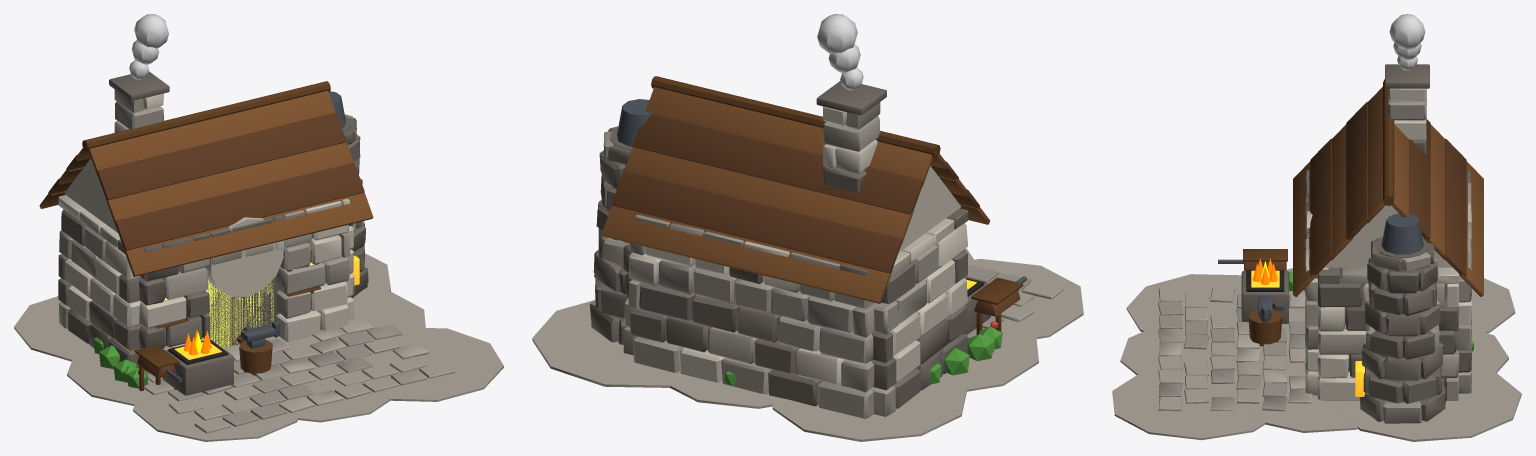
Rendered from kuznia_poz12.glb.
3 views of the same model, side by side, from view 1: azimuth 30°, elevation 25°; view 2: azimuth 150°, elevation 25°; view 3: azimuth 270°, elevation 25° (orthographic). The views are drawn at different scales.
Parts seen in each view (by area): view 1: kuznia_poz12; view 2: kuznia_poz12; view 3: kuznia_poz12.
Boxes of the visible parts, x1,y1,x2,y2 form: kuznia_poz12: [14, 14, 503, 441]; kuznia_poz12: [532, 14, 1083, 441]; kuznia_poz12: [1112, 14, 1521, 441].
Size of the model in its own units: 8.62 by 7.33 by 8.64.
